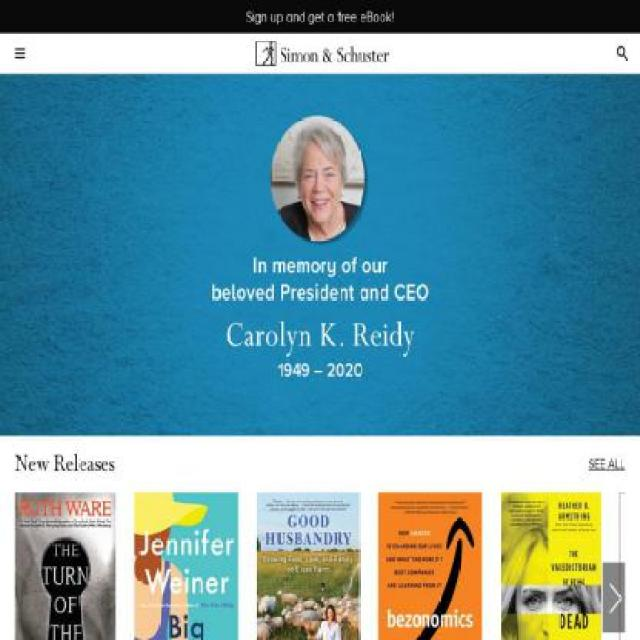button: (232, 35, 413, 71), (588, 456, 626, 472)
